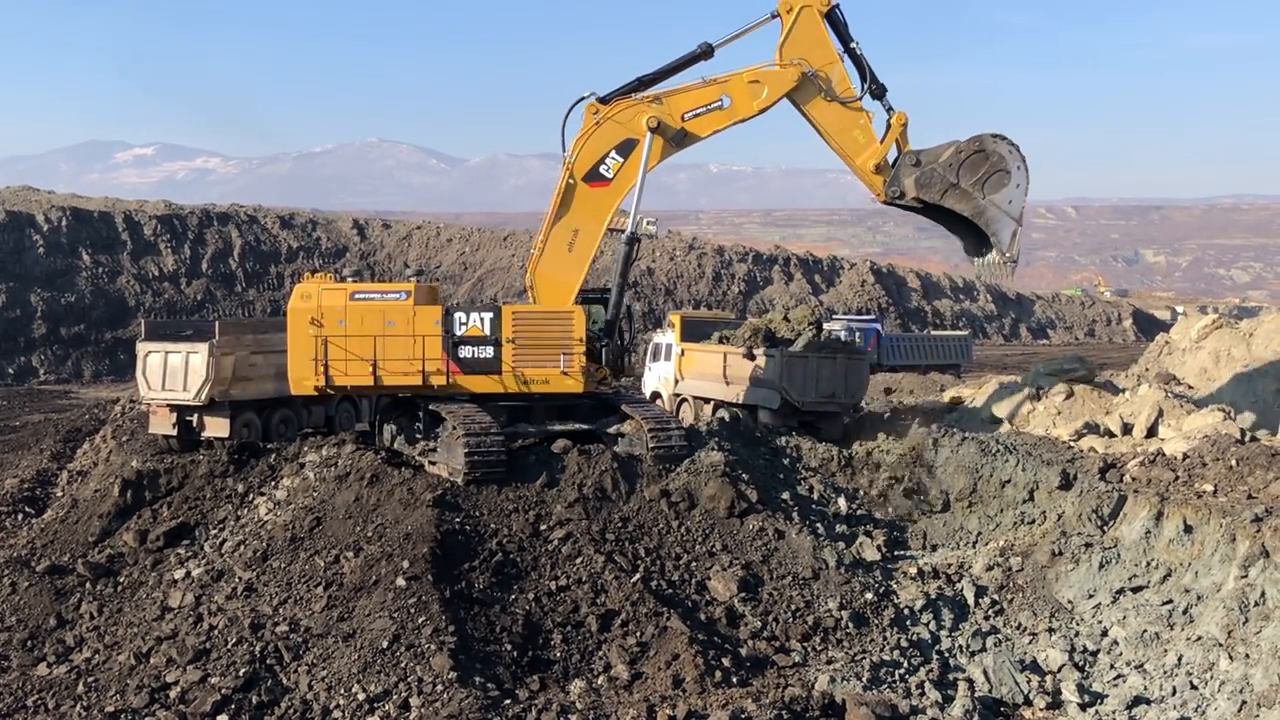empty: (877, 133, 1043, 291)
